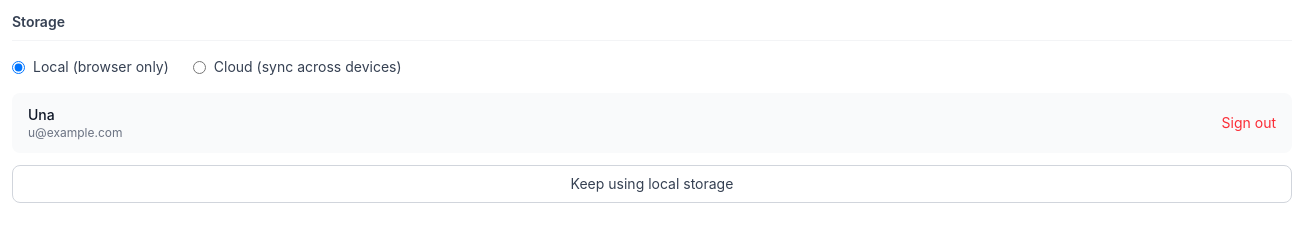
it: StorageSection upload › switching to the cloud with nothing to upload, when the cloud cannot be reached: the line is red
Click the radio button labelled "Cloud (sync across devices)": x=199, y=67 x1=193 y1=60 x2=206 y2=74
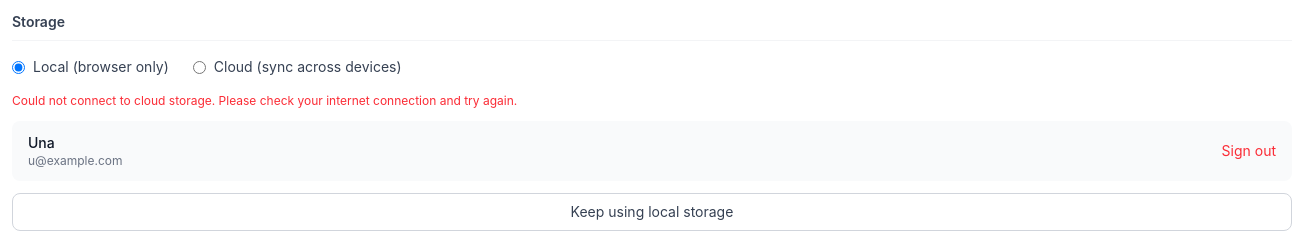
Now the text "Could not connect to cloud storage. Please check your internet connection and try again." is shown, box x1=12 y1=93 x2=517 y2=108
